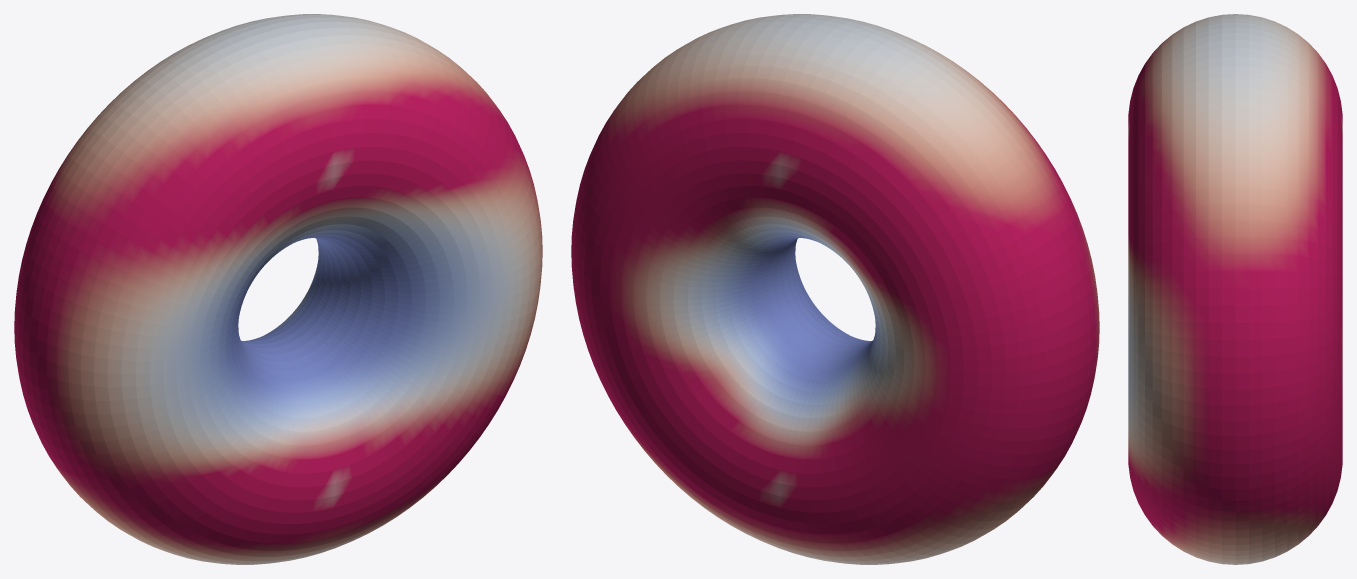
3 views of the same model, side by side, from view 1: azimuth 30°, elevation 25°; view 2: azimuth 150°, elevation 25°; view 3: azimuth 270°, elevation 25° (orthographic). The views are drawn at different scales.
Visible parts, largest first — view 1: world; view 2: world; view 3: world.
Boxes of the visible parts, x1,y1,x2,y2 form: world: (14, 14, 542, 564); world: (571, 14, 1099, 564); world: (1128, 14, 1342, 564).
Bounding box in the file's own units: 22.93 × 22.93 × 8.92.
